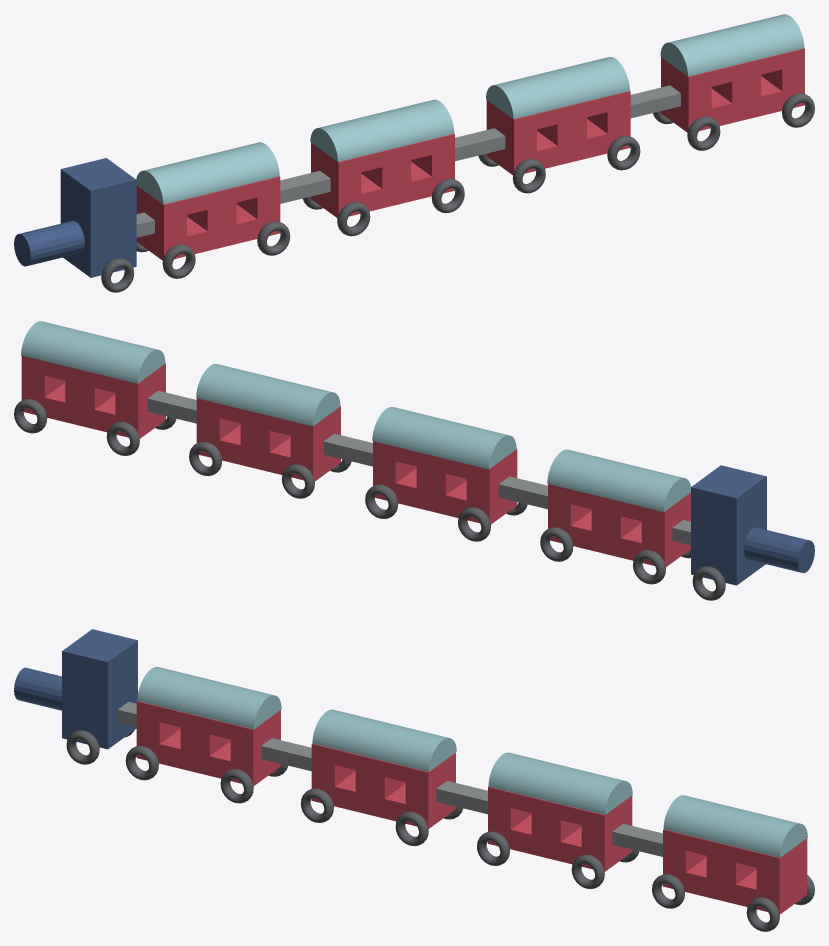
Rendered from train_model.glb.
3 renders of one model, top to bottom at view 1: azimuth 30°, elevation 25°; view 2: azimuth 150°, elevation 25°; view 3: azimuth 330°, elevation 25°, orthographic.
Parts seen in each view (by area): view 1: Mesh_Mesh_head_geo.001_lambert2SG.001; view 2: Mesh_Mesh_head_geo.001_lambert2SG.001; view 3: Mesh_Mesh_head_geo.001_lambert2SG.001.
Boxes of the visible parts, x1,y1,x2,y2 form: Mesh_Mesh_head_geo.001_lambert2SG.001: [14, 14, 814, 292]; Mesh_Mesh_head_geo.001_lambert2SG.001: [14, 321, 814, 600]; Mesh_Mesh_head_geo.001_lambert2SG.001: [14, 629, 814, 931].
Size of the model in its own units: 372 by 48 by 36.5.
